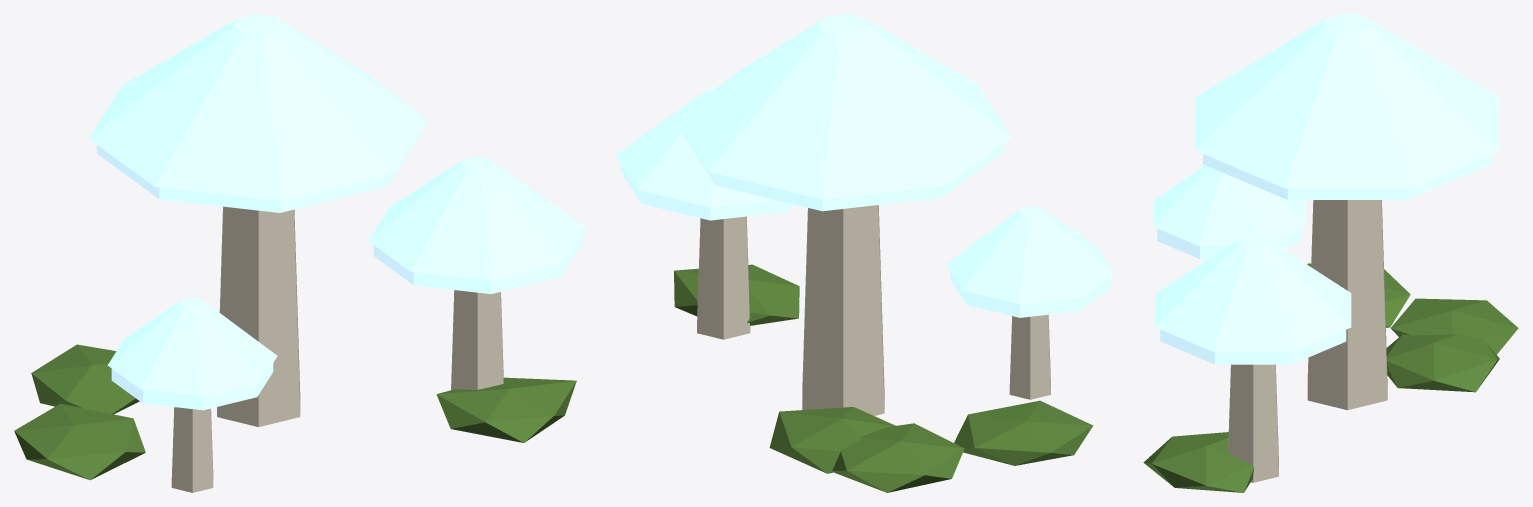
Rendered from GlowMushrooms.glb.
The picture shows the model from 3 angles, left to right: view 1: azimuth 30°, elevation 25°; view 2: azimuth 150°, elevation 25°; view 3: azimuth 270°, elevation 25°; orthographic projection. The views are drawn at different scales.
Parts seen in each view (by area): view 1: Glow, Body; view 2: Glow, Body; view 3: Glow, Body.
Boxes of the visible parts, bbox=[...] form: Glow: bbox=[88, 14, 586, 410]; Body: bbox=[14, 206, 576, 492]; Glow: bbox=[615, 14, 1114, 317]; Body: bbox=[674, 205, 1093, 492]; Glow: bbox=[1153, 14, 1499, 364]; Body: bbox=[1143, 200, 1518, 492].
Size of the model in its own units: 2.31 by 1.76 by 1.59.
